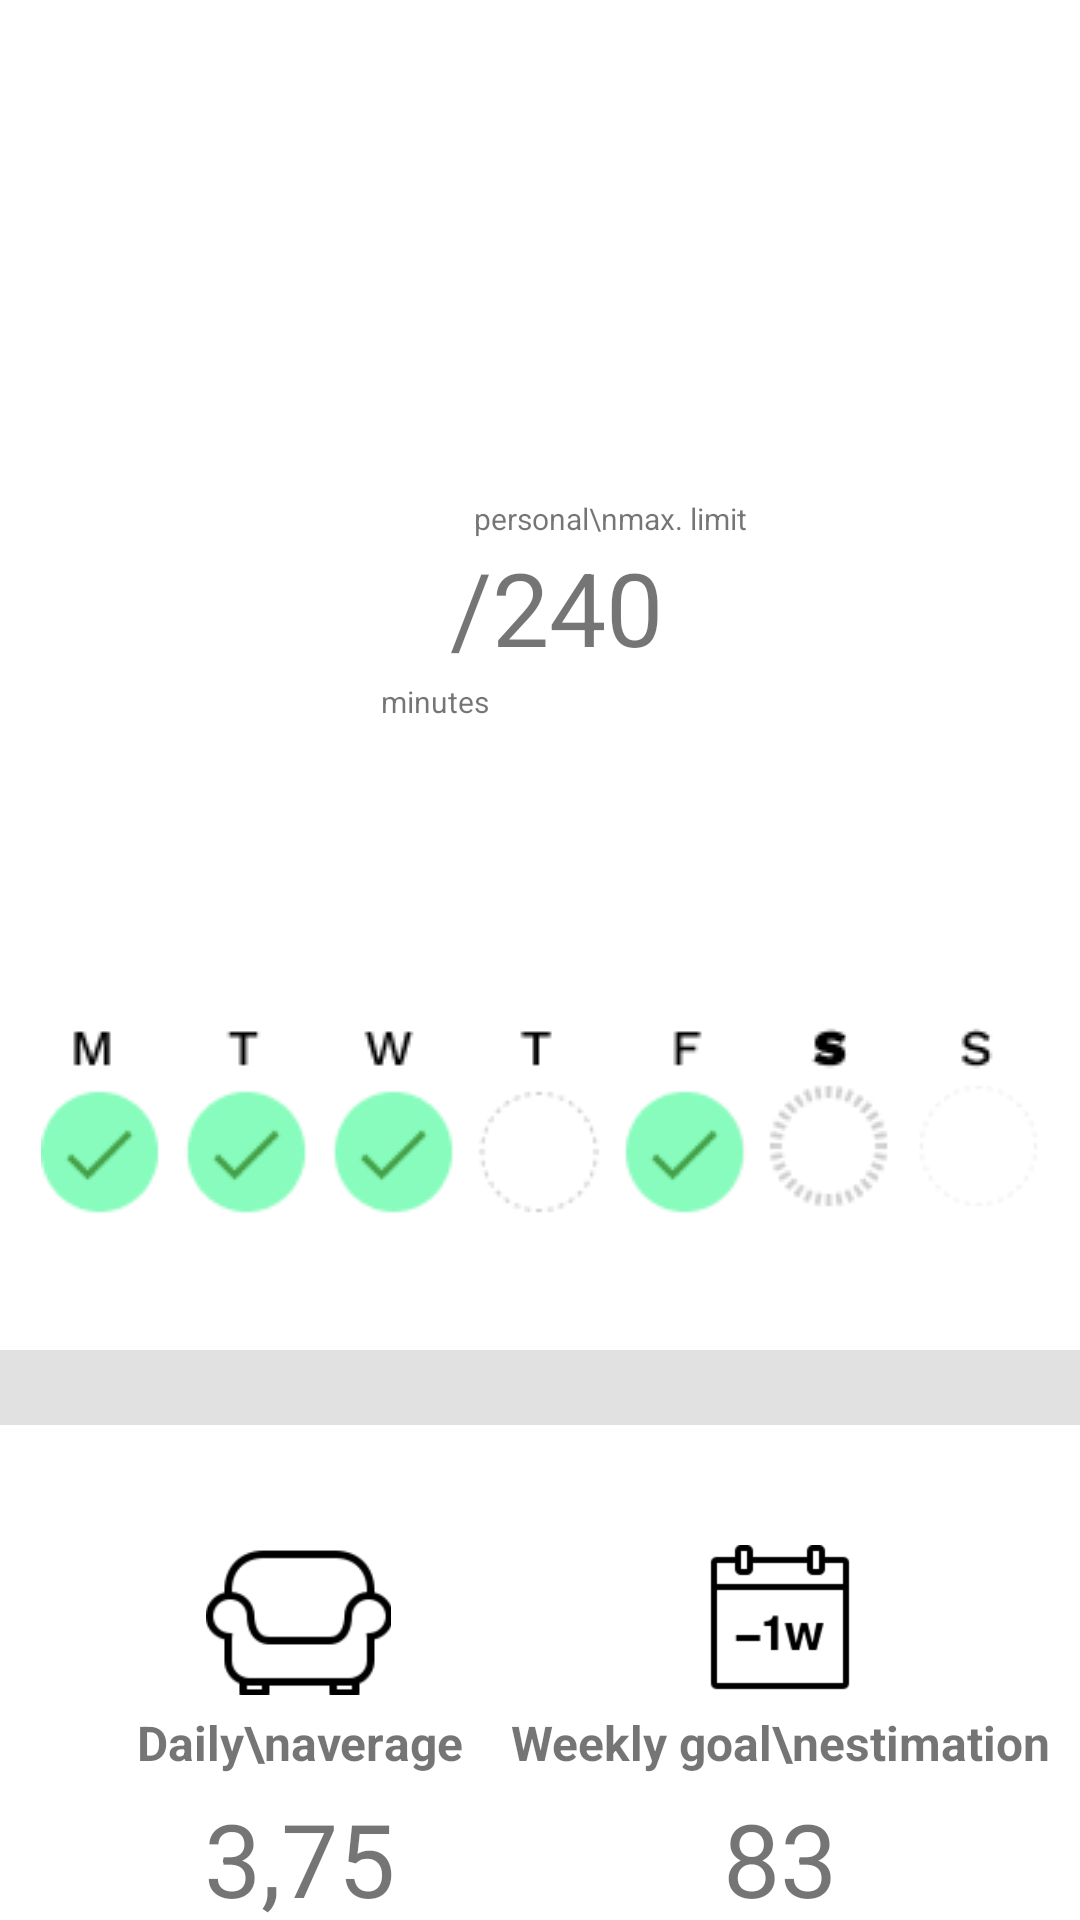

Icon click points for this 1080 × 1920 phone screenshot, format (x=x, y=y):
chair: (x=298, y=1622)
